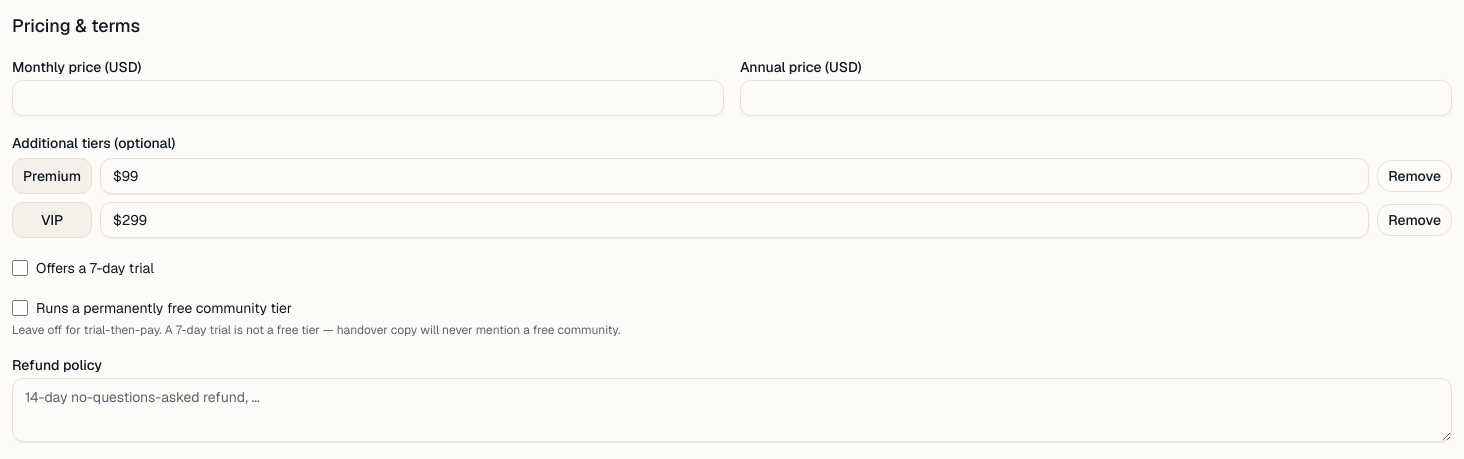
Step3Pricing — additional tiers › removing Premium when both tiers exist cascade-removes VIP
Expected: the text named "Premium tier" is shown, [12,158,92,194]
Expected: the text named "VIP tier" is shown, [12,202,92,238]
Click the button "Remove" in the row of "Premium": (1415, 176) [1377,160,1452,192]
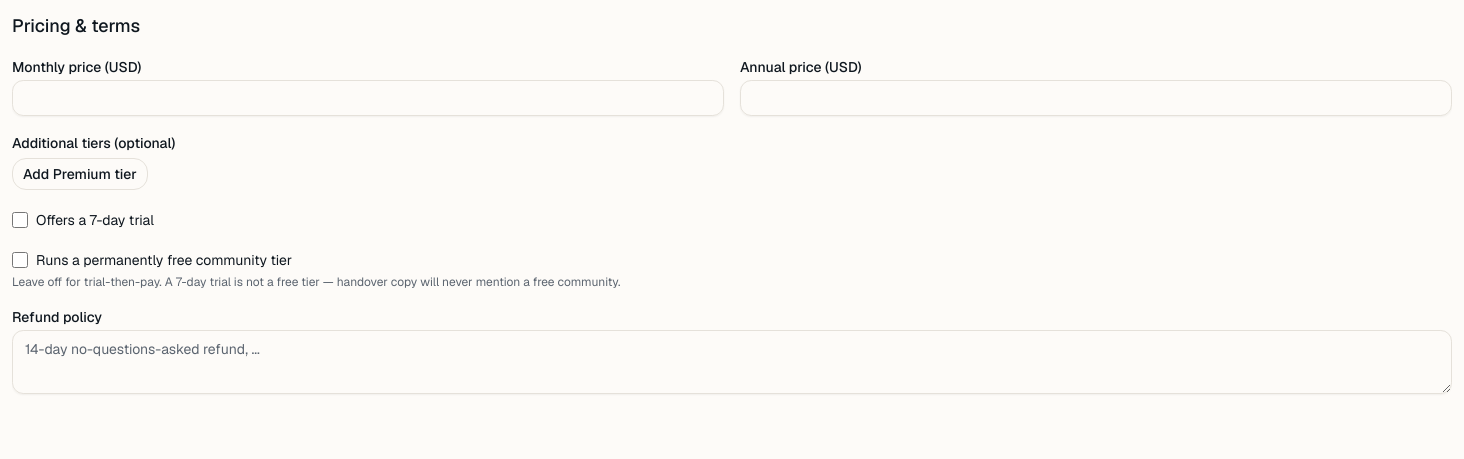
Expected: the button "Add Premium tier" is shown, [12,158,148,190]
